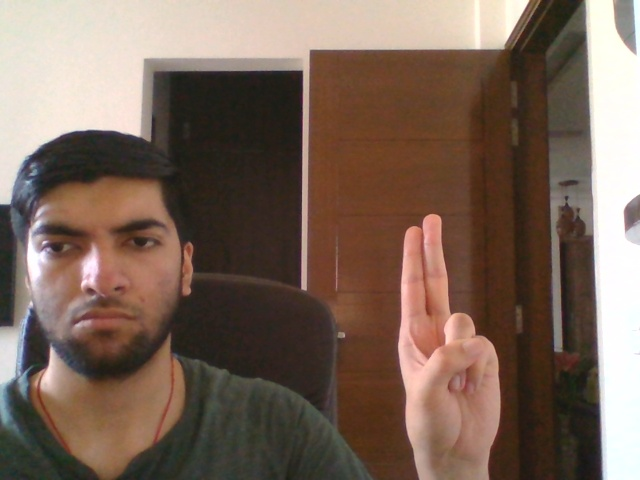LetterU: (395, 212, 504, 469)
